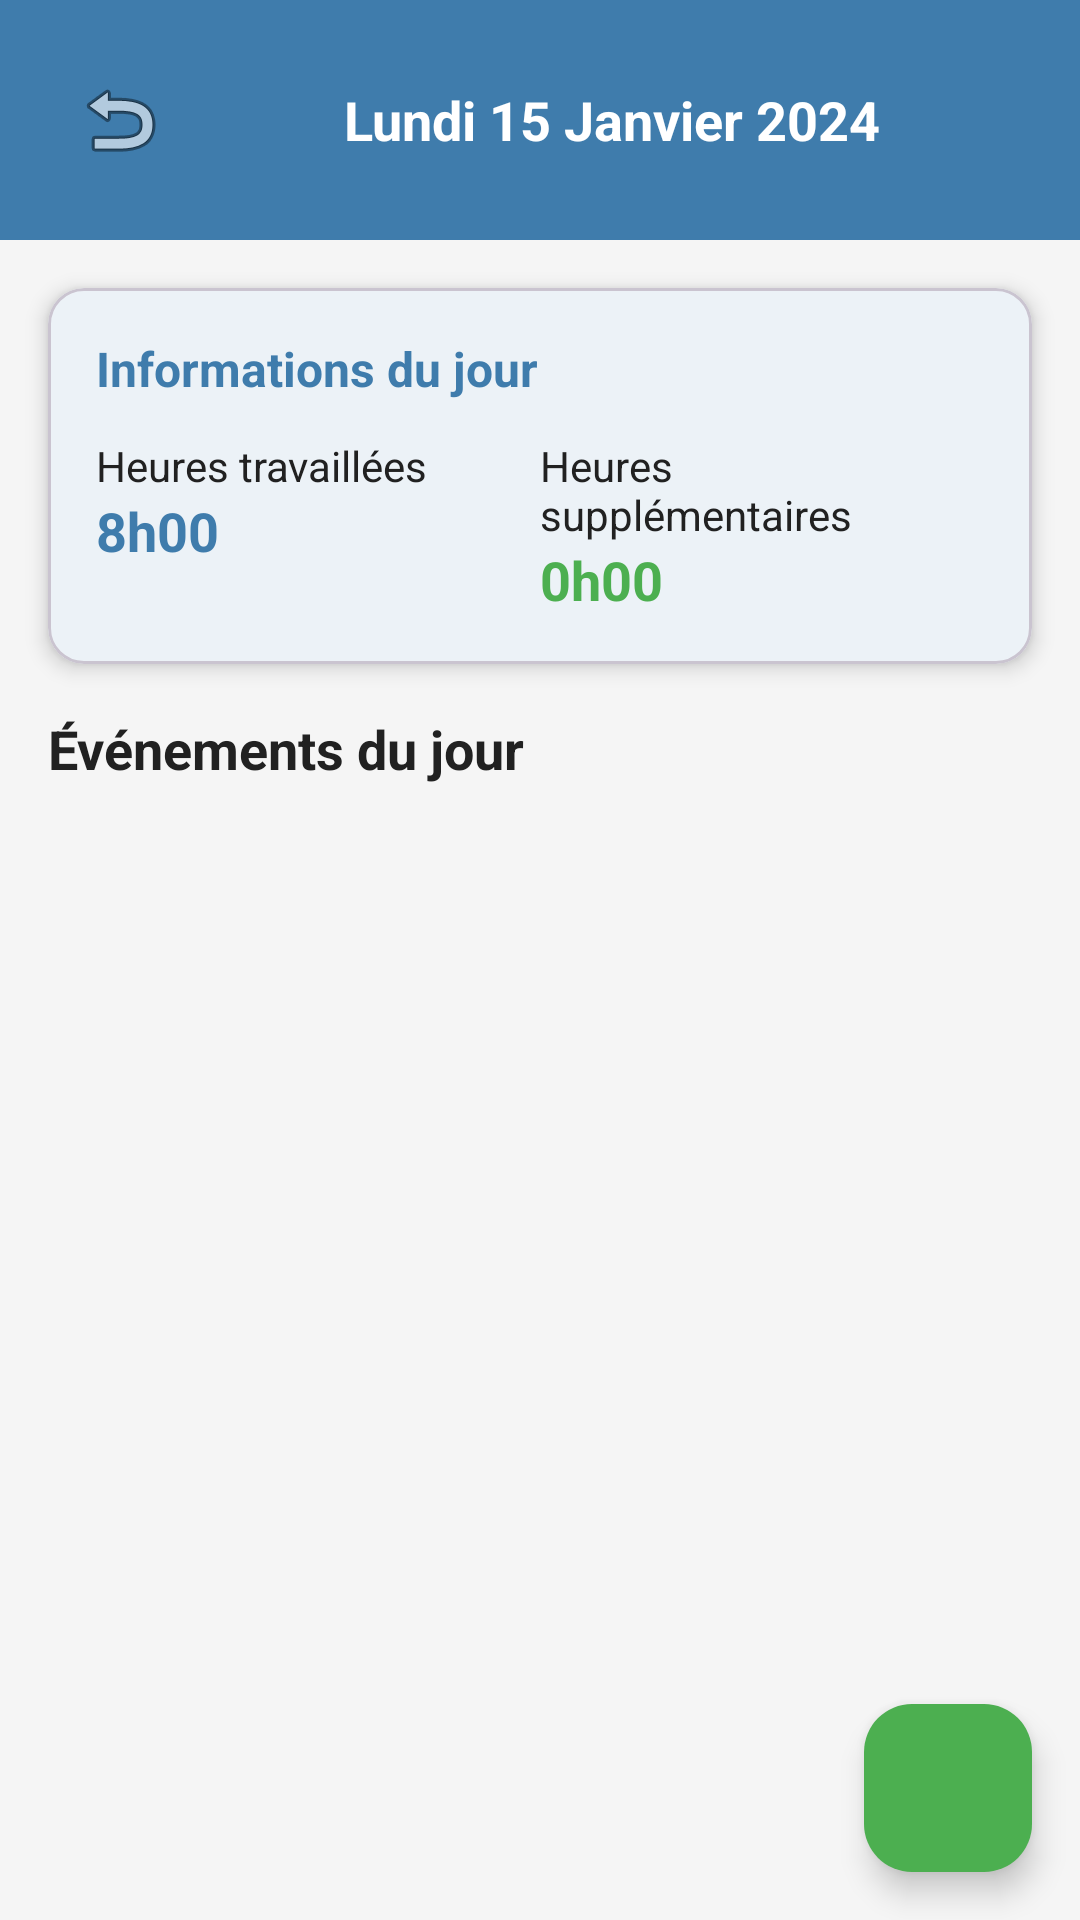

Icons on this 1080 x 1920 Android screen, each with its box as Rect(x1, y1, x2, y2):
Retour: Rect(87, 89, 156, 152)
